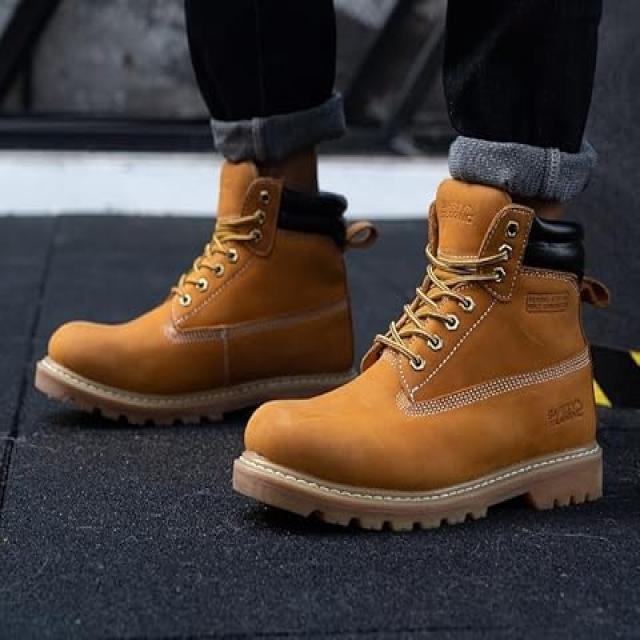Boots: (32, 142, 616, 536)
